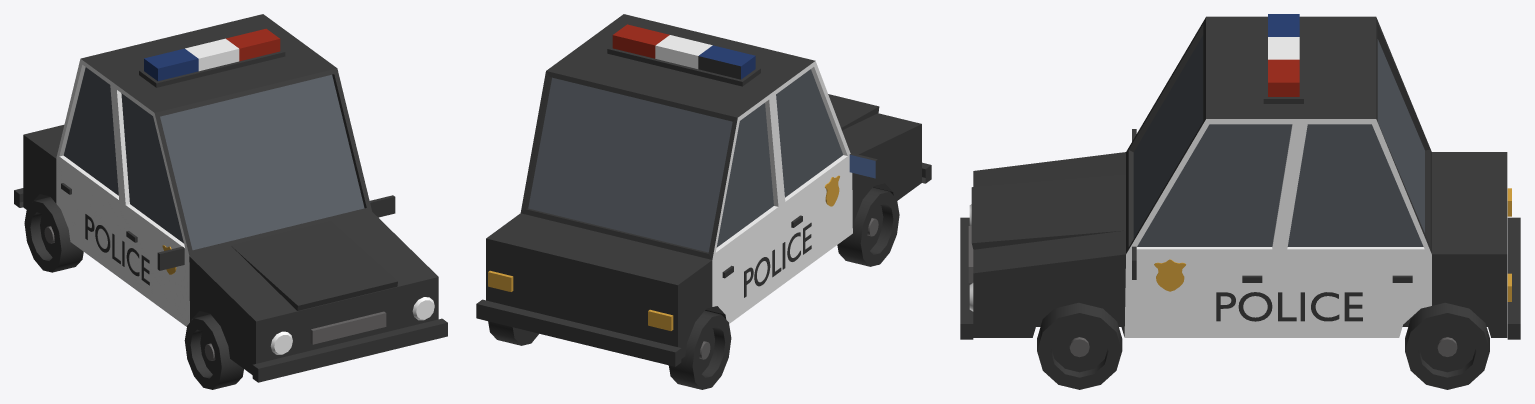
File: PoliceCar_1.fbx
3 views of the same model, side by side, from view 1: azimuth 30°, elevation 25°; view 2: azimuth 150°, elevation 25°; view 3: azimuth 270°, elevation 25° (orthographic). The views are drawn at different scales.
Visible parts, largest first — view 1: PoliceCar_1; view 2: PoliceCar_1; view 3: PoliceCar_1.
Boxes of the visible parts, bbox=[...] form: PoliceCar_1: bbox=[14, 14, 447, 389]; PoliceCar_1: bbox=[476, 14, 931, 389]; PoliceCar_1: bbox=[960, 14, 1520, 389].
Bounding box in the file's own units: 201 × 204 × 361.
